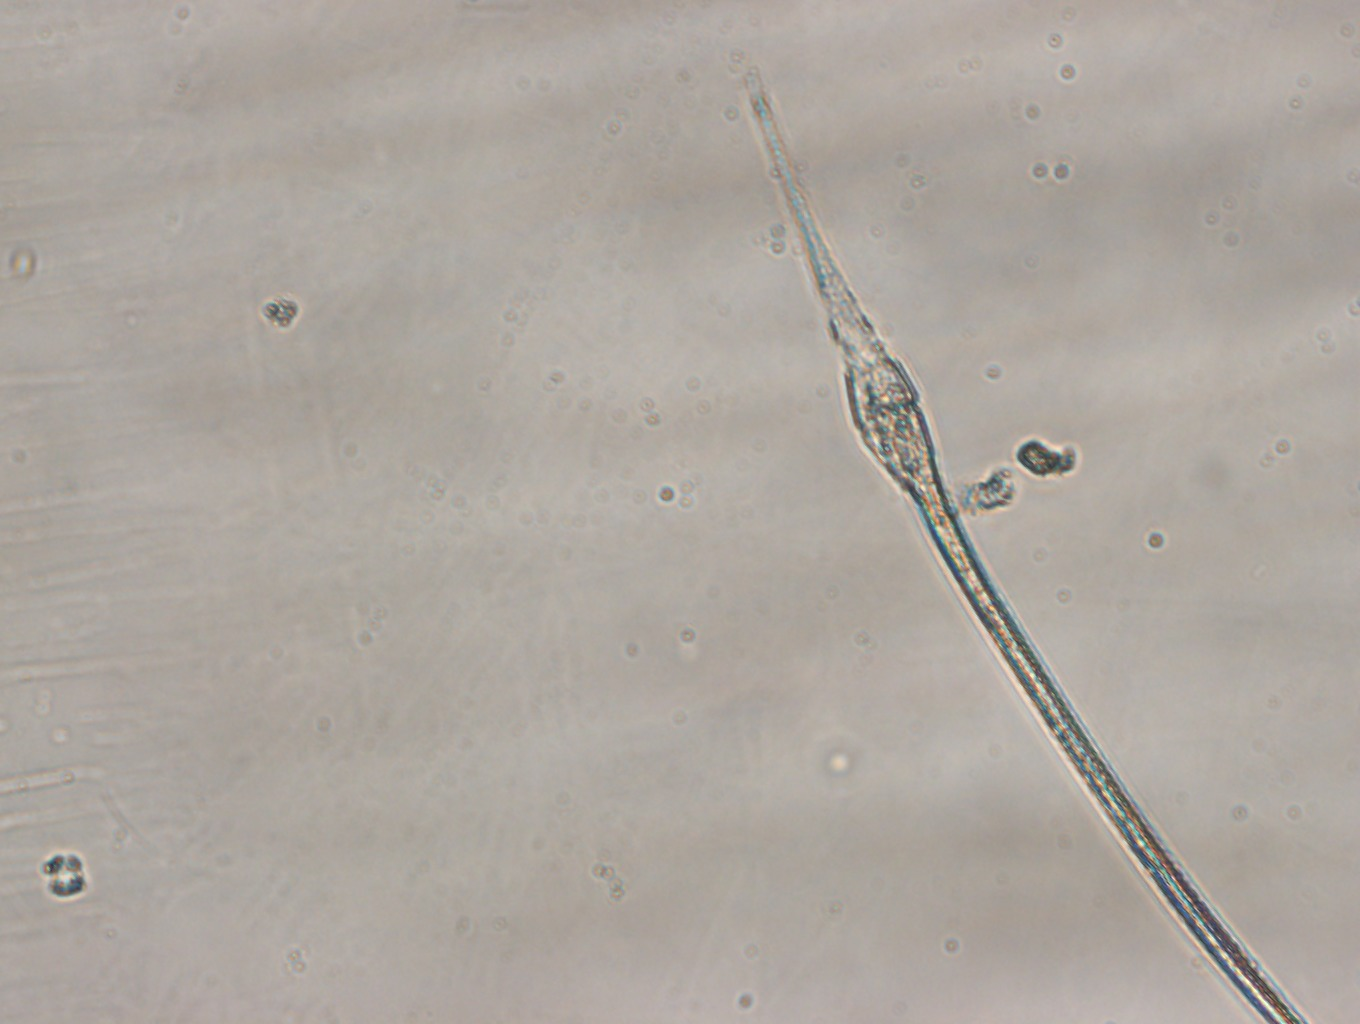ceratium fusus: (742, 67, 1306, 1024)
